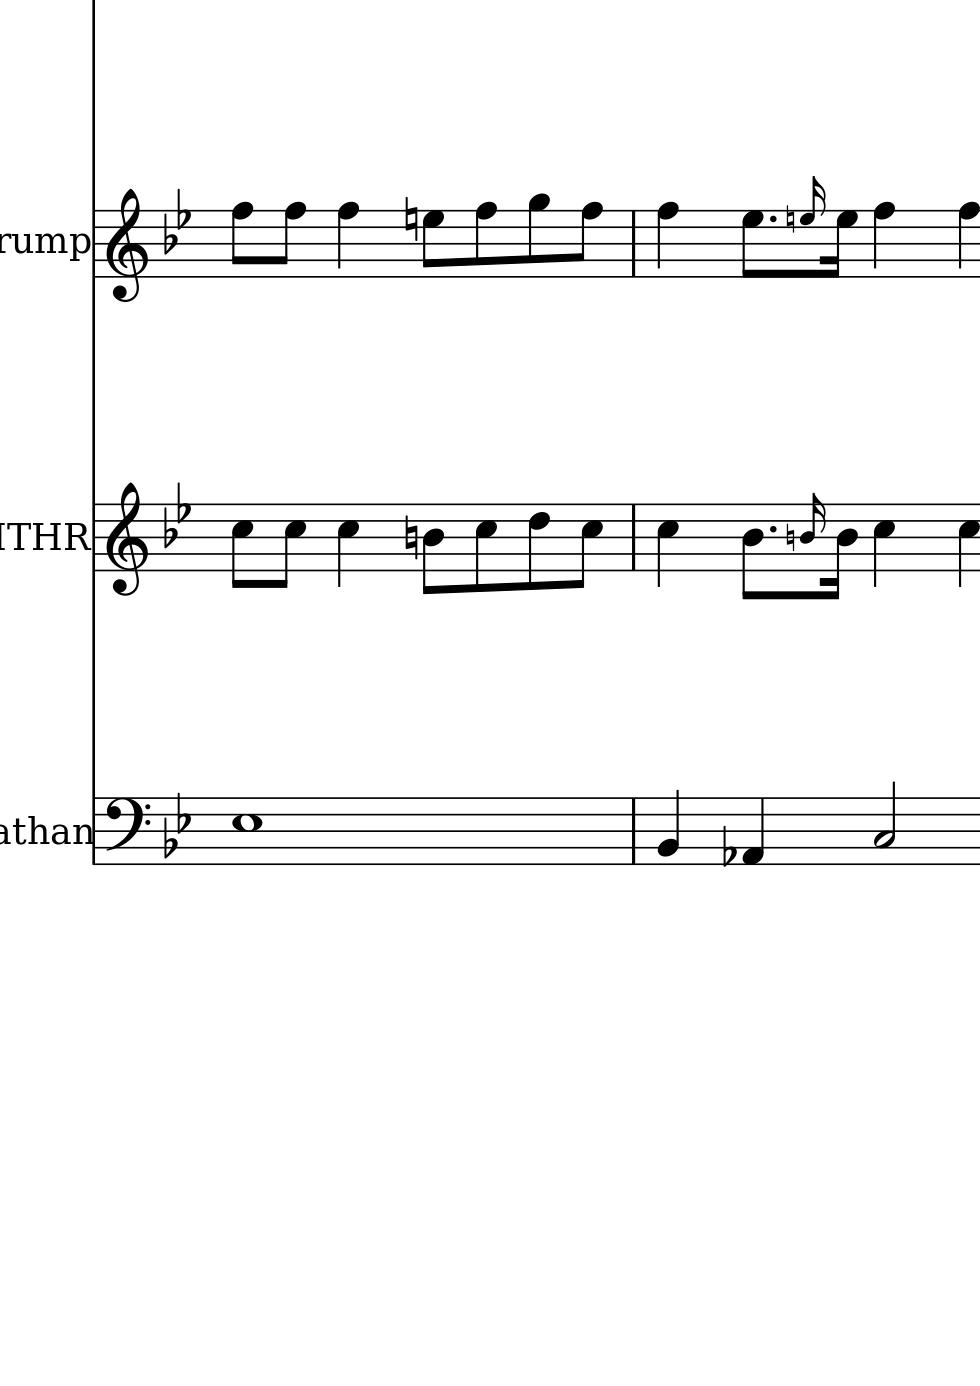16_4: (821, 501, 858, 602)
16_7: (821, 208, 858, 280)
1_5: (229, 796, 263, 867)
2_3: (871, 780, 897, 866)
4_1: (741, 796, 766, 867)
4_2: (657, 787, 681, 867)
4_5: (953, 502, 979, 591), (654, 502, 680, 590), (871, 502, 896, 590), (334, 502, 360, 589)
4_8: (955, 199, 979, 280), (653, 200, 678, 280), (871, 200, 895, 280), (335, 201, 360, 280)
8_4: (739, 502, 763, 602), (420, 503, 444, 598)
8_5: (274, 502, 307, 591), (571, 502, 603, 590), (472, 501, 498, 595), (229, 501, 255, 590)
8_6: (525, 501, 550, 594)
8_7: (420, 208, 445, 279), (739, 208, 763, 281)
8_8: (273, 200, 307, 280), (572, 200, 602, 280), (472, 201, 497, 281), (229, 200, 253, 280)
8_9: (525, 193, 552, 280)
B_F: (161, 187, 192, 255), (161, 792, 192, 859), (161, 481, 192, 547)
Fclef: (102, 795, 151, 866)
Flat: (719, 824, 735, 870)
Gclef: (104, 188, 148, 304), (105, 481, 148, 599)
Natural: (403, 196, 418, 244), (403, 513, 418, 561), (783, 522, 797, 554), (784, 203, 797, 236)
Single_barline: (624, 210, 644, 276), (625, 505, 642, 571), (625, 799, 641, 864), (88, 503, 103, 572), (88, 797, 103, 865), (88, 210, 102, 278)
dot: (766, 523, 778, 536), (766, 213, 778, 225)
